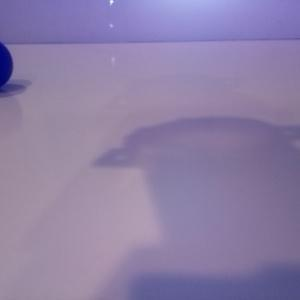dead_ball: (1, 42, 13, 90)
